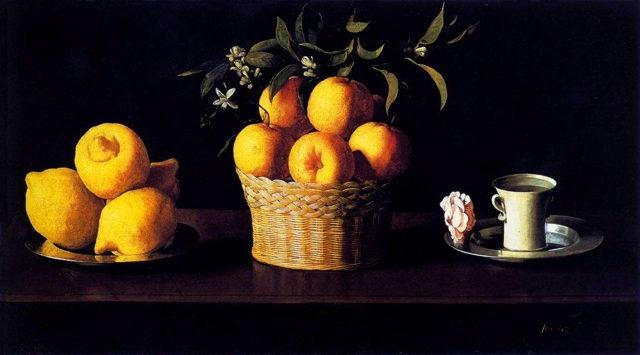lemon: (25, 168, 106, 249), (74, 122, 151, 200), (94, 188, 178, 255), (106, 158, 180, 206)
orange: (233, 105, 294, 180), (307, 76, 374, 144), (349, 114, 411, 182), (288, 131, 355, 186), (258, 76, 314, 138), (371, 94, 388, 124)
